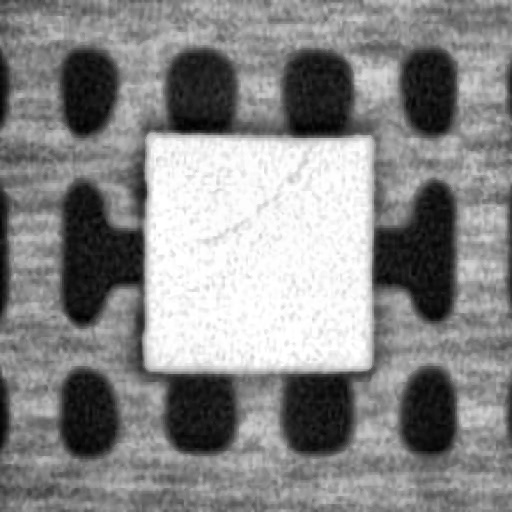DIE_CRACK: (202, 146, 315, 236)
